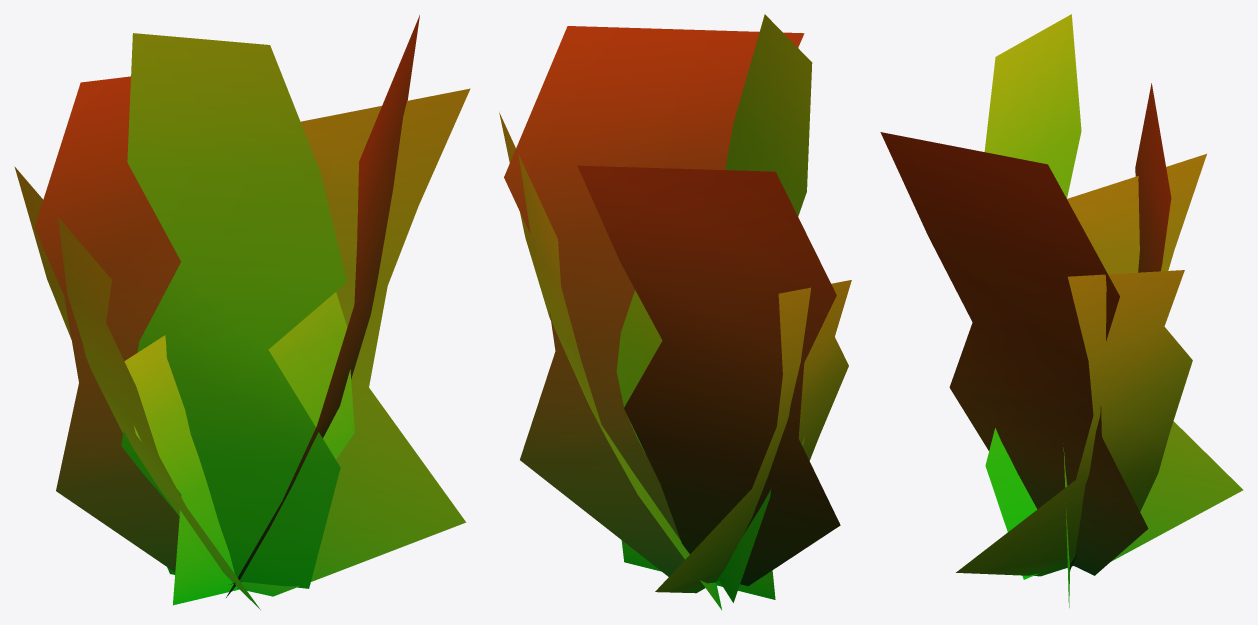
Rendered from Var8Hi40.fbx.
The picture shows the model from 3 angles, left to right: view 1: azimuth 30°, elevation 25°; view 2: azimuth 150°, elevation 25°; view 3: azimuth 270°, elevation 25°; orthographic projection. The views are drawn at different scales.
Parts seen in each view (by area): view 1: bend1; view 2: bend1; view 3: bend1.
Part boxes in pixels (x1,y1,x2,y2): bend1: [14, 15, 470, 609]; bend1: [499, 14, 851, 609]; bend1: [880, 14, 1243, 607].
Size of the model in its own units: 1.27 by 1.77 by 1.14.
